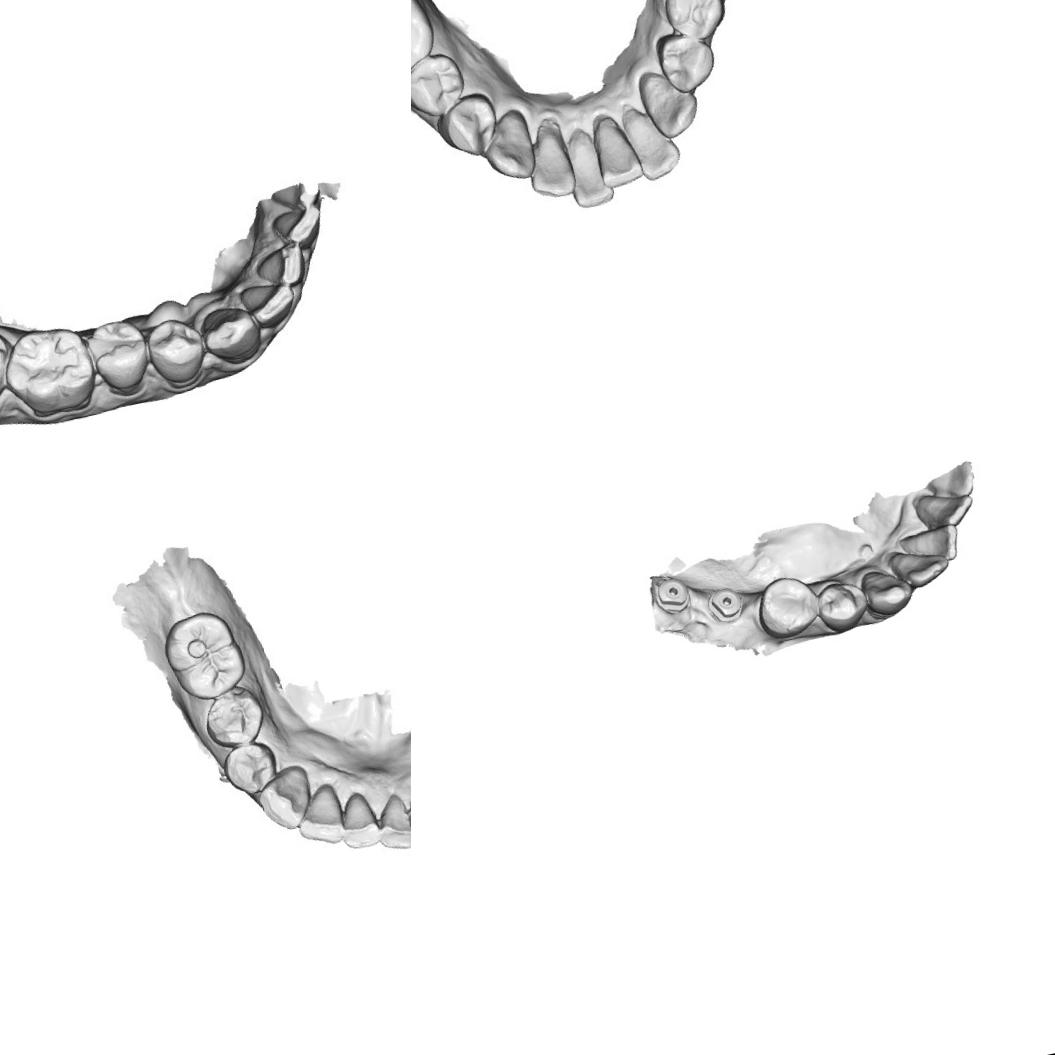canine: (634, 62, 704, 144), (475, 105, 540, 188), (196, 300, 266, 367), (256, 767, 315, 836), (858, 562, 917, 625)
implant: (650, 572, 695, 618), (702, 582, 748, 626)
incisor: (618, 100, 686, 186), (558, 126, 618, 212), (518, 124, 578, 205), (586, 112, 646, 192), (885, 541, 955, 595), (294, 781, 348, 846), (896, 521, 964, 572), (910, 484, 978, 535), (241, 276, 298, 328), (921, 457, 980, 506), (338, 790, 382, 847), (374, 791, 411, 849), (260, 244, 304, 289)
molar: (0, 315, 103, 422), (163, 608, 249, 704), (411, 0, 442, 86)
premolar: (81, 314, 161, 404), (750, 570, 824, 644), (431, 88, 504, 163), (652, 25, 722, 100), (411, 48, 472, 125), (198, 683, 266, 749), (148, 313, 206, 383), (812, 575, 873, 638), (219, 737, 282, 795), (659, 0, 731, 45)
